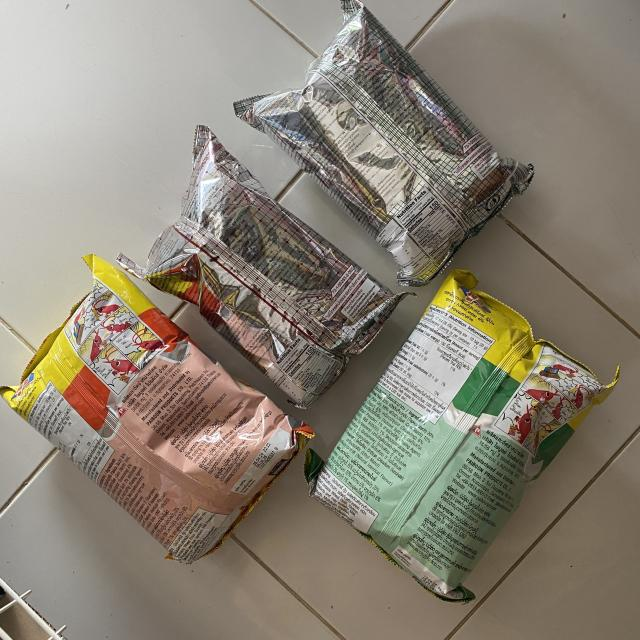plastik: (305, 270, 619, 602), (0, 255, 312, 562), (234, 0, 531, 284), (118, 125, 408, 409)
